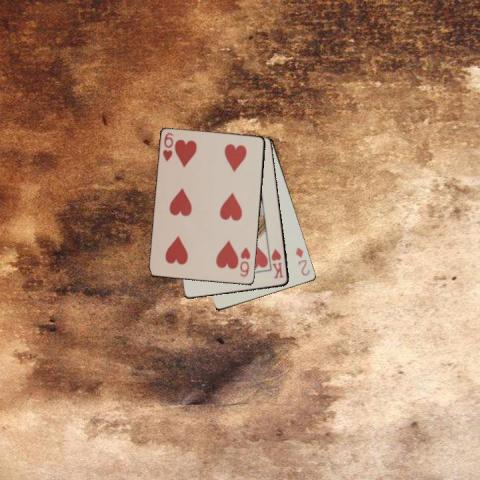2d: (293, 245, 311, 277)
6h: (237, 244, 252, 278), (160, 130, 175, 163)
Kh: (268, 246, 284, 280)
